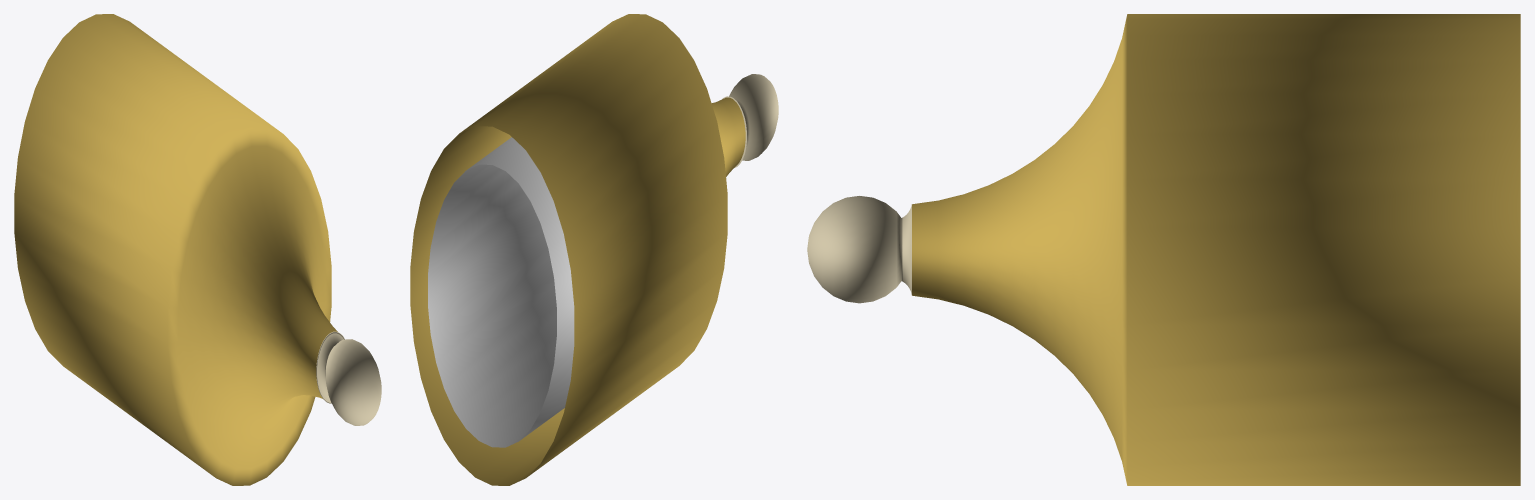
Rendered from model_align.obj.
3 renders of one model, left to right at view 1: azimuth 30°, elevation 25°; view 2: azimuth 150°, elevation 25°; view 3: azimuth 270°, elevation 25°, orthographic. The views are drawn at different scales.
Visible parts, largest first — view 1: mesh1_mesh1-geometry, mesh3_mesh3-geometry; view 2: mesh1_mesh1-geometry, mesh2_mesh2-geometry, mesh3_mesh3-geometry; view 3: mesh1_mesh1-geometry, mesh3_mesh3-geometry.
Boxes of the visible parts, x1,y1,x2,y2 form: mesh1_mesh1-geometry: [14, 14, 337, 485]; mesh3_mesh3-geometry: [316, 331, 381, 425]; mesh1_mesh1-geometry: [410, 14, 745, 485]; mesh2_mesh2-geometry: [428, 137, 574, 447]; mesh3_mesh3-geometry: [722, 74, 778, 167]; mesh1_mesh1-geometry: [912, 14, 1520, 485]; mesh3_mesh3-geometry: [807, 196, 911, 303].
Bounding box in the file's own units: 0.0475 × 0.0994 × 0.1395.
